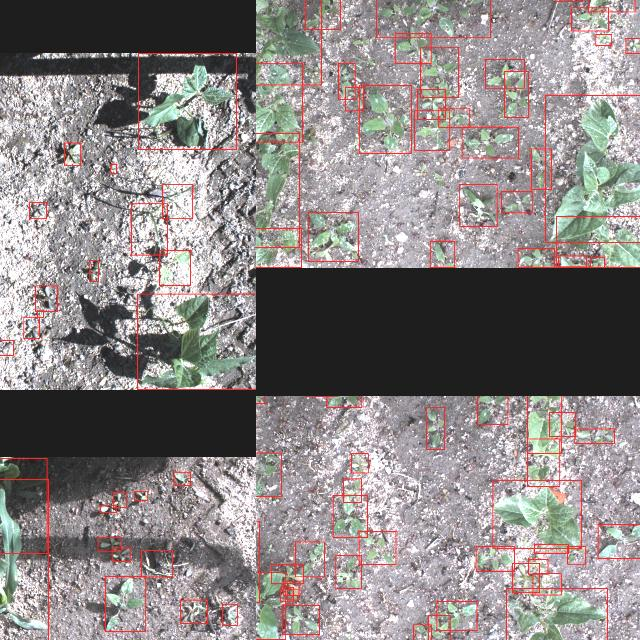crop: (544, 95, 640, 243), (137, 294, 256, 390), (138, 53, 236, 149), (0, 478, 47, 640), (492, 479, 580, 548), (256, 0, 321, 85), (505, 589, 606, 640), (256, 134, 298, 248), (556, 216, 640, 267), (256, 62, 302, 141), (527, 396, 561, 453), (256, 228, 300, 267), (527, 439, 559, 487), (587, 0, 634, 11), (557, 256, 585, 268)
weed: (375, 0, 489, 38), (358, 85, 410, 153), (307, 212, 357, 262), (104, 576, 146, 632), (256, 572, 285, 640), (420, 47, 458, 97), (131, 203, 167, 254), (461, 126, 517, 158), (459, 184, 496, 226), (597, 525, 640, 559), (332, 495, 366, 537), (414, 111, 448, 151), (358, 532, 396, 564), (158, 250, 190, 286), (484, 60, 524, 88), (436, 602, 476, 630), (504, 71, 528, 117), (394, 33, 430, 63), (282, 605, 318, 635), (256, 453, 280, 497), (474, 546, 514, 572), (162, 185, 192, 219), (294, 542, 324, 576), (304, 0, 339, 29), (530, 148, 550, 190), (417, 89, 445, 119), (477, 396, 507, 424), (570, 8, 608, 30), (140, 550, 172, 576), (336, 555, 360, 589), (426, 407, 444, 449), (512, 564, 538, 592), (517, 248, 553, 268), (180, 599, 207, 623), (574, 428, 614, 444), (270, 564, 302, 584), (430, 242, 454, 268), (549, 412, 575, 436), (438, 108, 469, 128), (501, 192, 531, 212), (338, 63, 354, 99), (35, 286, 57, 312), (532, 574, 560, 594), (427, 615, 449, 640), (345, 87, 363, 111), (343, 478, 361, 502), (326, 396, 361, 407), (350, 453, 368, 473), (64, 143, 80, 165), (534, 544, 568, 554), (567, 546, 585, 564), (221, 604, 237, 624), (24, 317, 38, 339), (98, 537, 120, 551), (28, 202, 46, 218), (527, 560, 547, 574), (413, 625, 431, 640), (624, 38, 640, 54), (112, 547, 130, 561), (173, 471, 189, 485), (112, 491, 126, 507), (283, 582, 299, 596), (89, 260, 98, 282), (0, 340, 12, 355), (280, 588, 292, 602), (595, 34, 611, 44), (590, 258, 604, 268), (134, 490, 146, 500), (287, 590, 297, 600), (99, 506, 115, 512), (110, 164, 116, 174), (256, 396, 263, 403), (36, 310, 42, 318)
